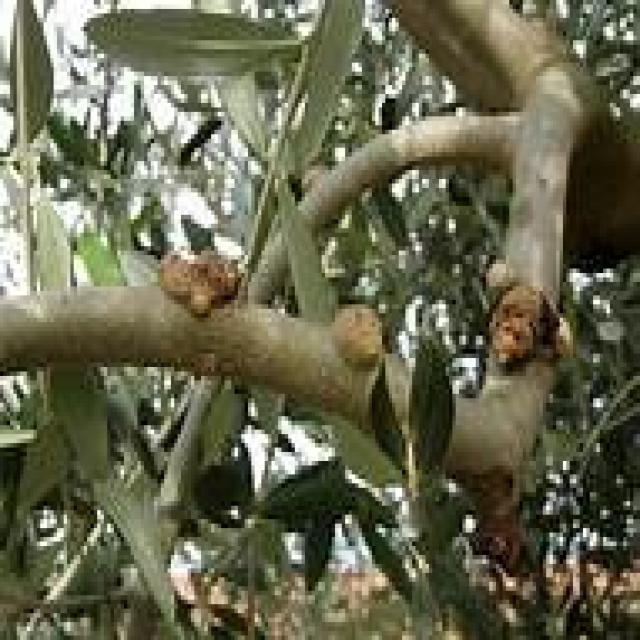Tuberculosis: (481, 272, 570, 372), (157, 251, 241, 313), (328, 309, 382, 374)
